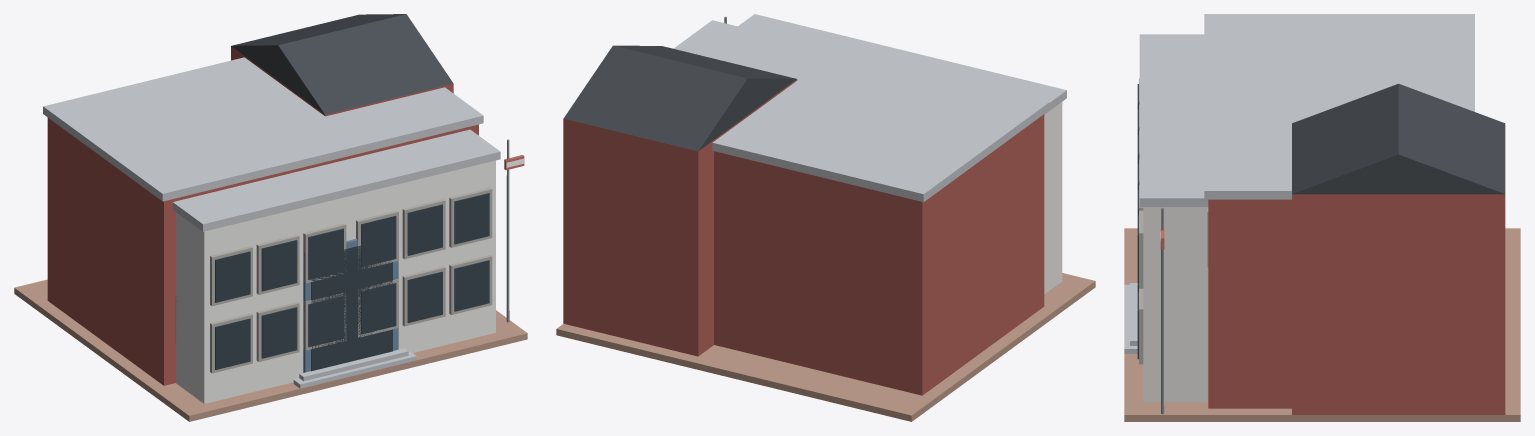
File: service_school.glb
3 renders of one model, left to right at view 1: azimuth 30°, elevation 25°; view 2: azimuth 150°, elevation 25°; view 3: azimuth 270°, elevation 25°, orthographic. The views are drawn at different scales.
Parts seen in each view (by area): view 1: school; view 2: school; view 3: school.
Boxes of the visible parts, box(x1,y1,x2,y2) form: school: box(14, 14, 527, 421); school: box(556, 14, 1095, 421); school: box(1124, 14, 1520, 421).
Bounding box in the file's own units: 12.03 × 7.75 × 10.4.
2 materials, 1 textured.
